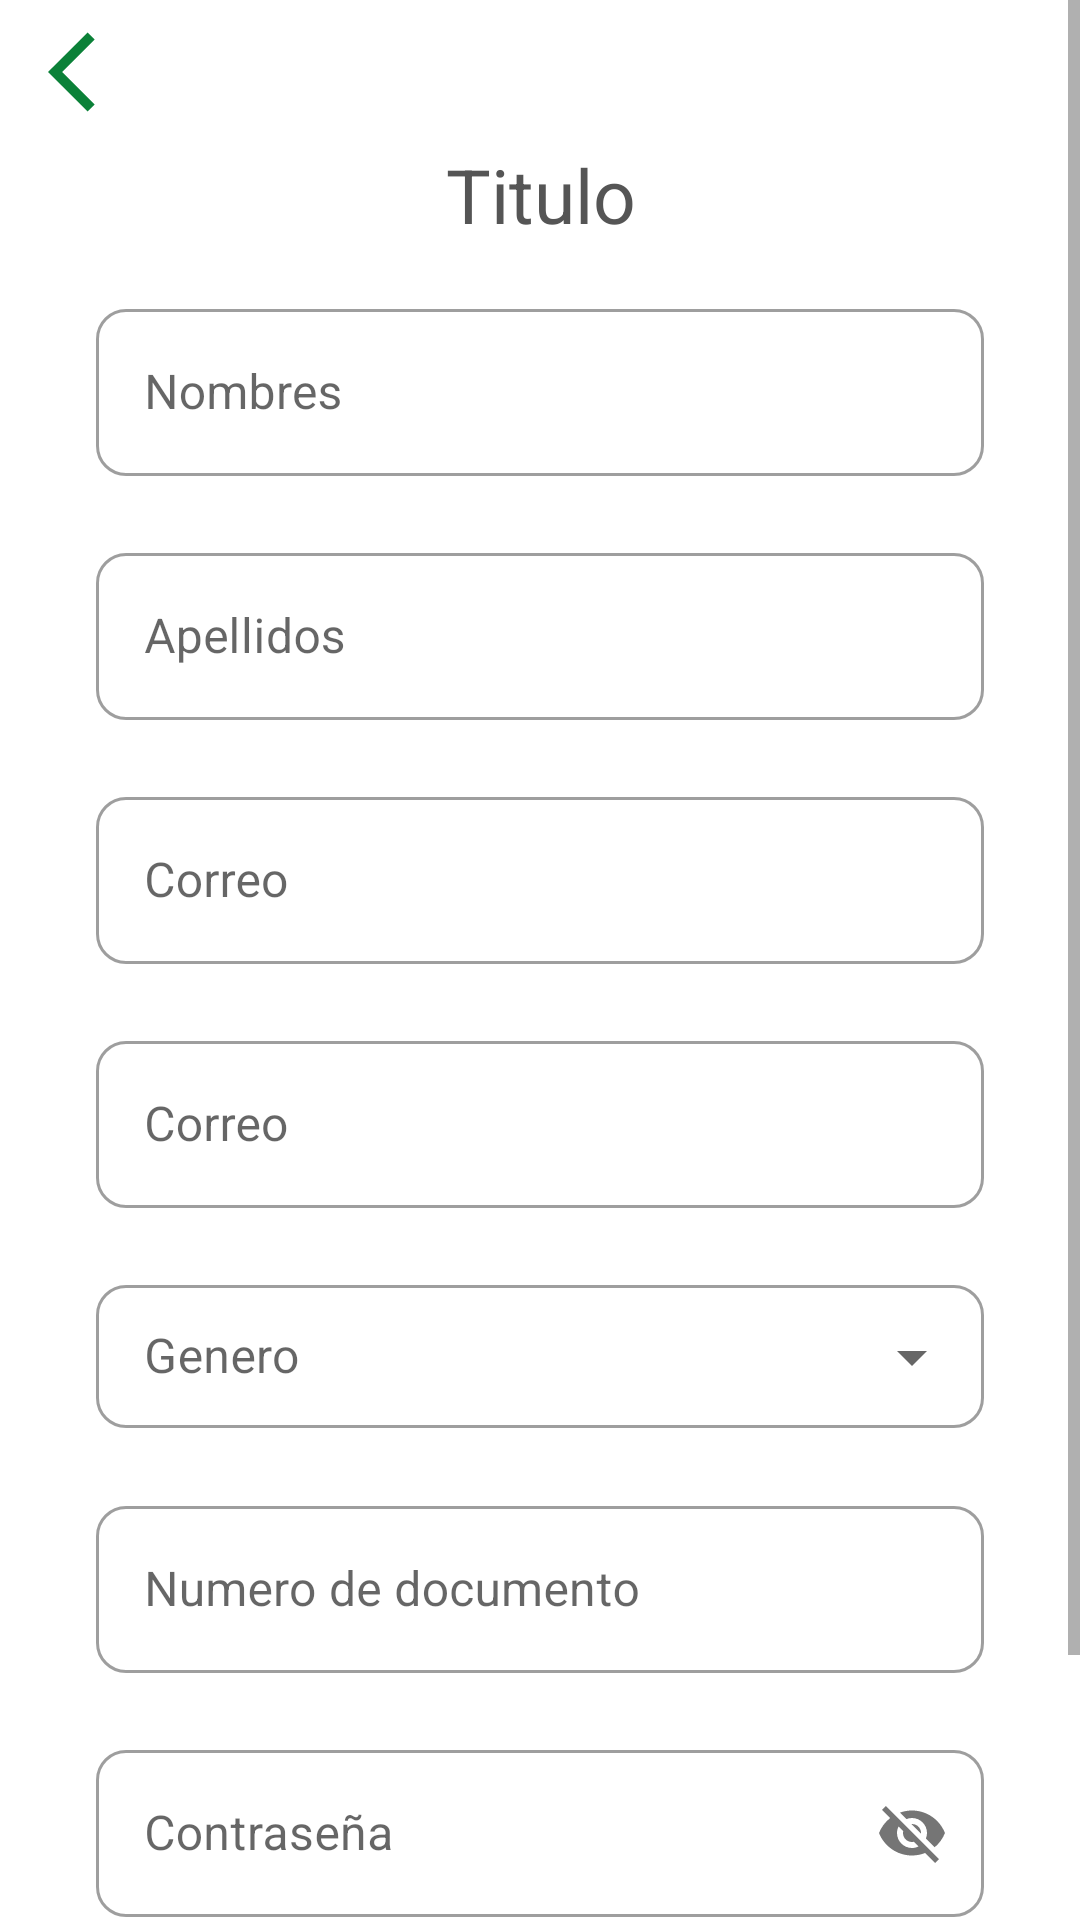

Screen size 1080×1920. Icon name, then its box in pixels as (x1, y1, x2, y2):
back: (48, 32, 95, 112)
